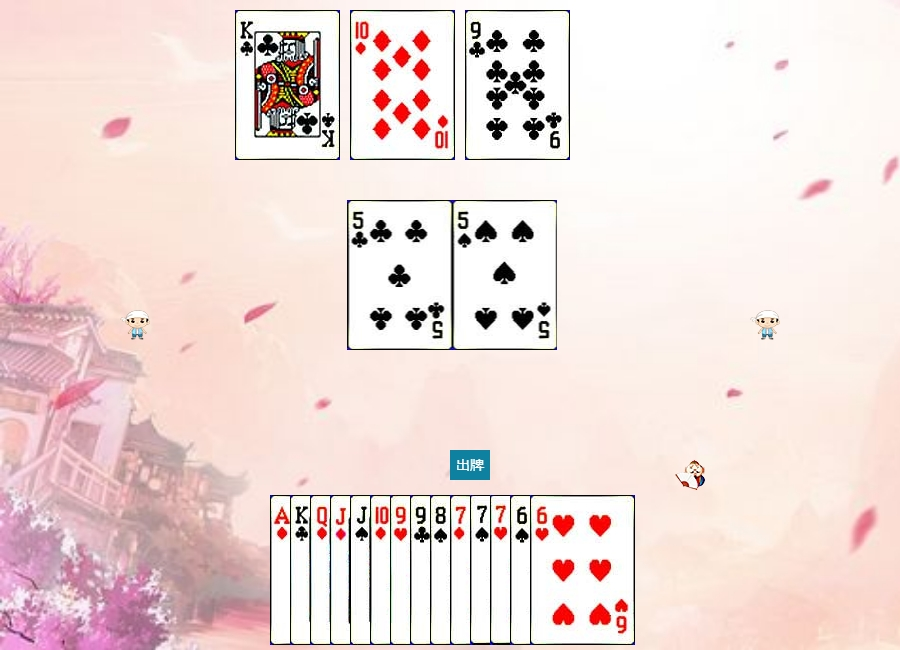10~1: (350, 10, 455, 160), (370, 495, 475, 645)
11~1: (330, 495, 435, 645)
11~4: (350, 495, 455, 645)
12~1: (310, 495, 415, 645)
13~2: (235, 10, 340, 160), (290, 495, 395, 645)
14~1: (270, 495, 375, 645)
5~2: (348, 200, 453, 350)
5~4: (453, 200, 558, 350)
6~3: (530, 495, 635, 645)
6~4: (510, 495, 615, 645)
7~1: (450, 495, 555, 645)
7~3: (490, 495, 595, 645)
7~4: (470, 495, 575, 645)
8~4: (430, 495, 535, 645)
9~2: (465, 10, 570, 160), (410, 495, 515, 645)
9~3: (390, 495, 495, 645)
